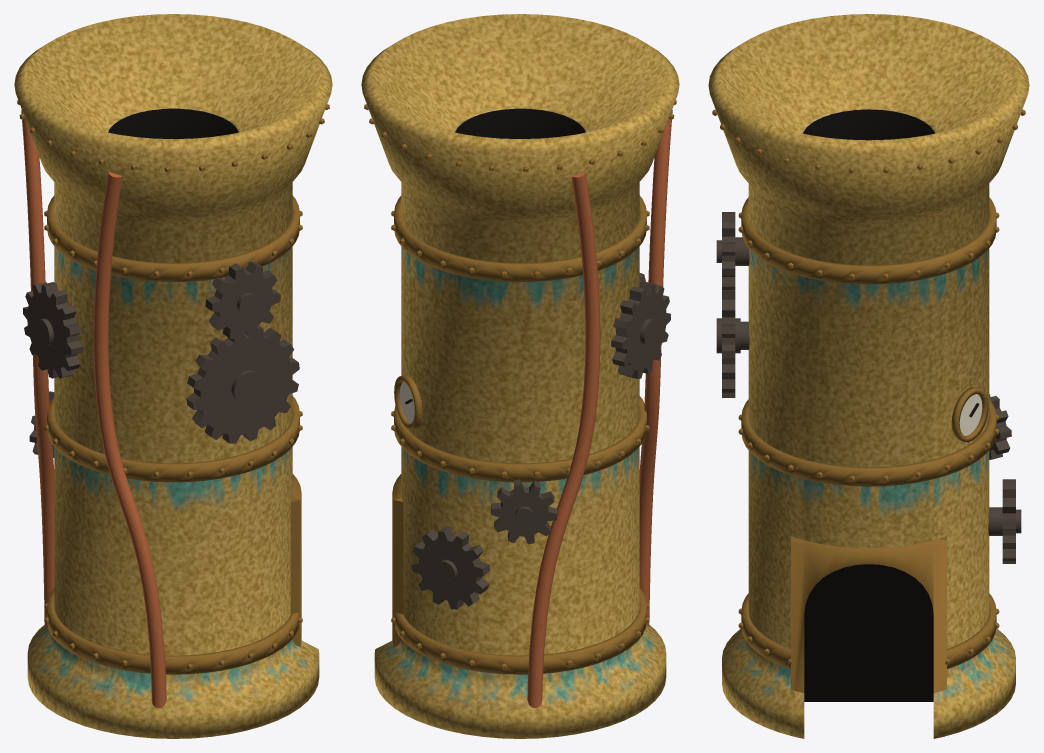
File: clockwork.glb
The picture shows the model from 3 angles, left to right: view 1: azimuth 30°, elevation 25°; view 2: azimuth 150°, elevation 25°; view 3: azimuth 270°, elevation 25°; orthographic projection.
Parts seen in each view (by area): view 1: body, gears, bands, pipes, door-frame.004; view 2: body, bands, pipes, gears, door-frame.004, gauge-ring; view 3: body, bands, door-frame.004, gears, gauge-ring, gauge.
Boxes of the visible parts, x1,y1,x2,y2 form: body: [14, 14, 332, 738]; gears: [23, 261, 299, 457]; bands: [17, 100, 329, 674]; pipes: [21, 109, 166, 707]; door-frame.004: [290, 474, 301, 646]; body: [361, 14, 679, 738]; bands: [364, 100, 676, 674]; pipes: [527, 109, 672, 707]; gears: [411, 273, 670, 609]; door-frame.004: [392, 474, 403, 646]; gauge-ring: [394, 375, 422, 429]; body: [708, 14, 1029, 738]; bands: [712, 109, 1025, 668]; door-frame.004: [791, 536, 946, 693]; gears: [716, 212, 1021, 563]; gauge-ring: [951, 387, 988, 442]; gauge: [959, 394, 982, 435].
Size of the model in its own units: 7.2 by 15 by 7.2.
8 materials, 1 textured.
